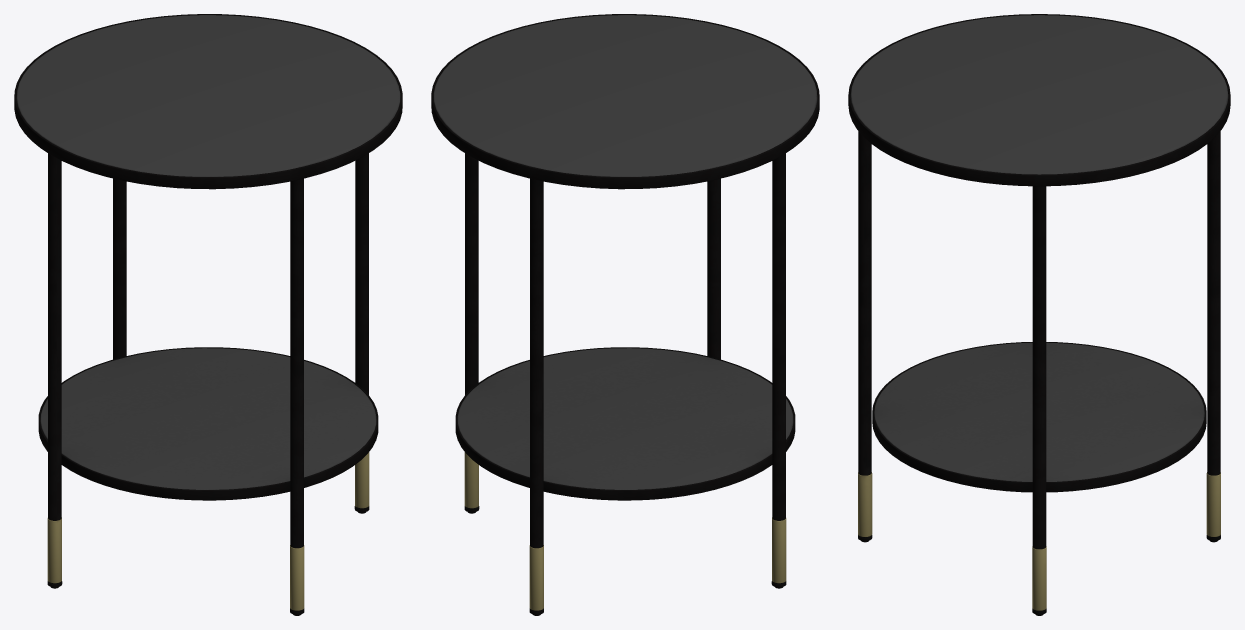
Rendered from SideTable_002.gltf.
3 renders of one model, left to right at view 1: azimuth 30°, elevation 25°; view 2: azimuth 150°, elevation 25°; view 3: azimuth 270°, elevation 25°, orthographic.
Visible parts, largest first — view 1: SideTable_002; view 2: SideTable_002; view 3: SideTable_002.
Boxes of the visible parts, x1,y1,x2,y2 form: SideTable_002: (14,14,402,615); SideTable_002: (431,14,819,615); SideTable_002: (848,14,1230,615).
Size of the model in its own units: 0.4575 by 0.5891 by 0.4575.
1 material, 1 textured.
